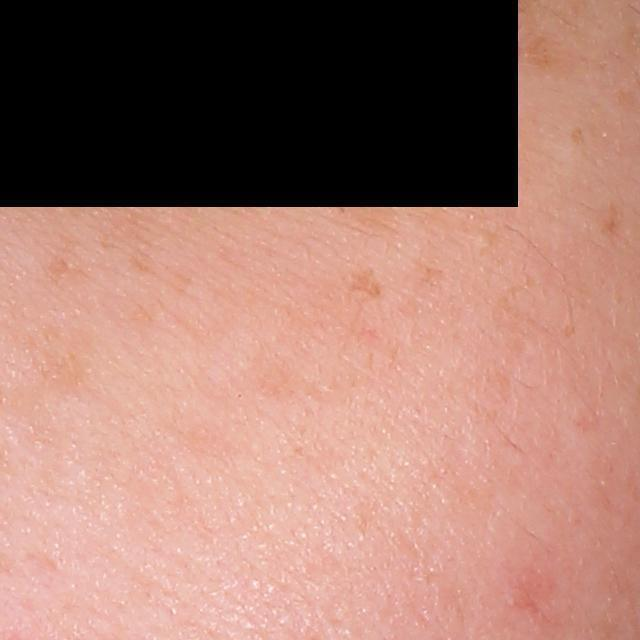comedo: (466, 224, 499, 251)
melasma: (52, 184, 160, 278), (327, 180, 402, 249), (518, 32, 561, 74), (42, 251, 93, 285), (342, 263, 383, 297), (598, 196, 624, 238), (564, 123, 587, 152)
